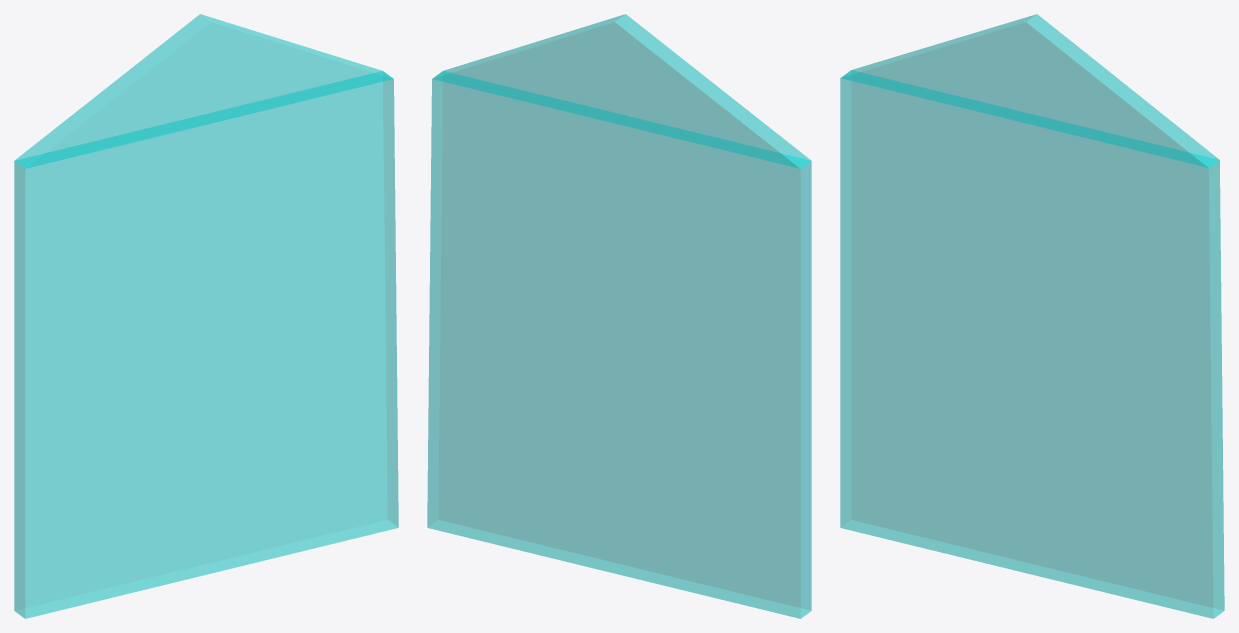
Rendered from SM_Bld_Door_03_Collision_01.fbx.
The picture shows the model from 3 angles, left to right: view 1: azimuth 30°, elevation 25°; view 2: azimuth 150°, elevation 25°; view 3: azimuth 330°, elevation 25°; orthographic projection.
Parts seen in each view (by area): view 1: SM_Bld_Door_03_Collision_01; view 2: SM_Bld_Door_03_Collision_01; view 3: SM_Bld_Door_03_Collision_01.
Part boxes in pixels (<box>): SM_Bld_Door_03_Collision_01: <box>14,14,398,618</box>; SM_Bld_Door_03_Collision_01: <box>427,14,811,618</box>; SM_Bld_Door_03_Collision_01: <box>840,14,1224,618</box>.
Size of the model in its own units: 206 by 291 by 10.59.
